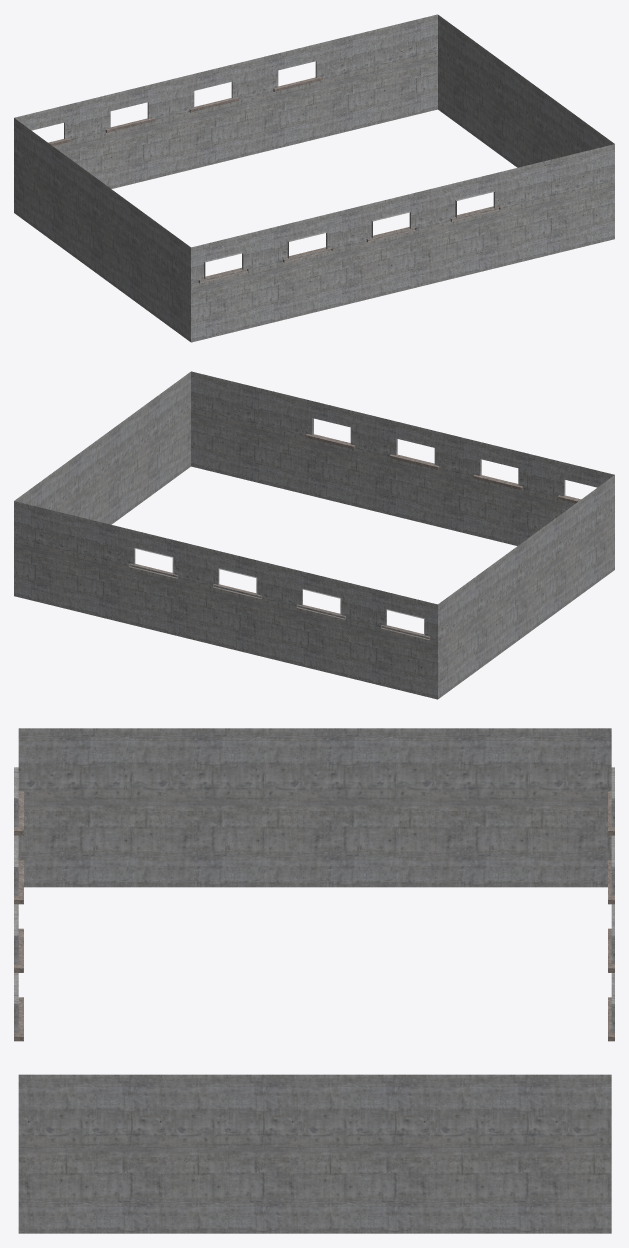
Rendered from BUILDING_caveInteriorWalls_01.FBX.
3 views of the same model, one above another, from view 1: azimuth 30°, elevation 25°; view 2: azimuth 150°, elevation 25°; view 3: azimuth 270°, elevation 25° (orthographic). The views are drawn at different scales.
Parts seen in each view (by area): view 1: BUILDING_caveInteriorWalls_01; view 2: BUILDING_caveInteriorWalls_01; view 3: BUILDING_caveInteriorWalls_01.
Part boxes in pixels (box(x1,y1,x2,y2)): BUILDING_caveInteriorWalls_01: box(14, 14, 614, 342); BUILDING_caveInteriorWalls_01: box(14, 371, 614, 699); BUILDING_caveInteriorWalls_01: box(14, 728, 614, 1233).
Size of the model in its own units: 18.38 by 3.94 by 13.48.
2 materials, 2 textured.
